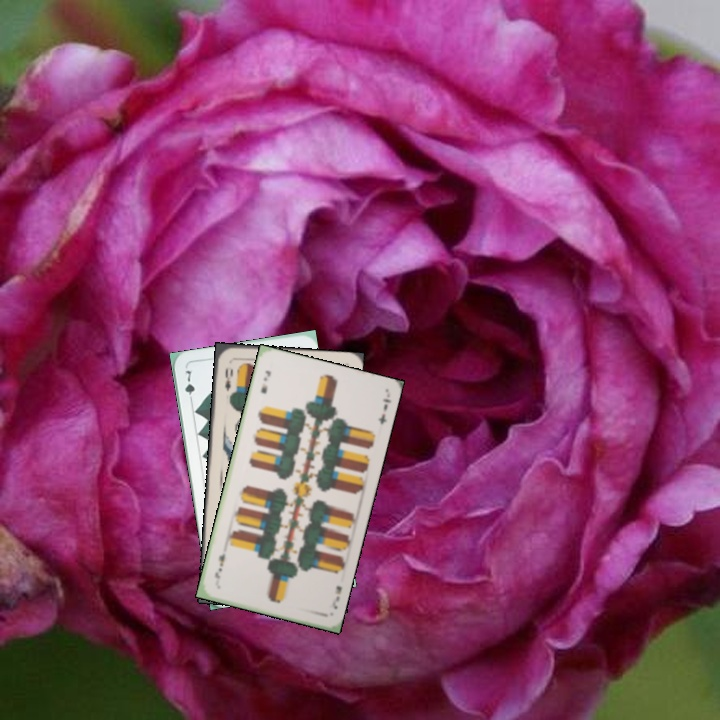E7: (257, 366, 273, 396), (328, 582, 344, 612)
EO: (221, 363, 236, 393)
G7: (181, 366, 197, 406)
